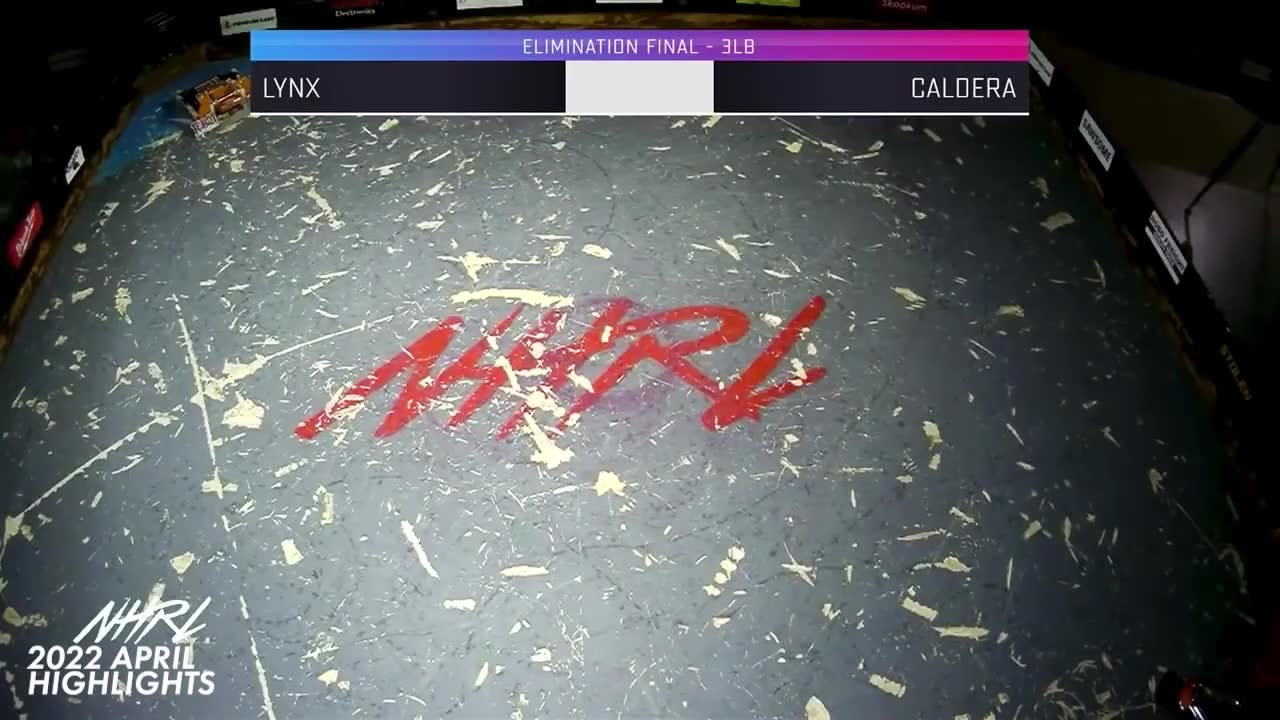combatbot: (183, 70, 250, 132)
